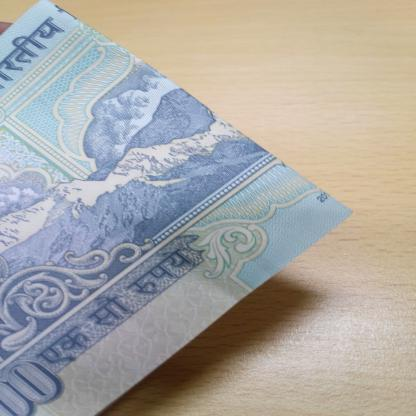Old100Back: (0, 0, 355, 416)
